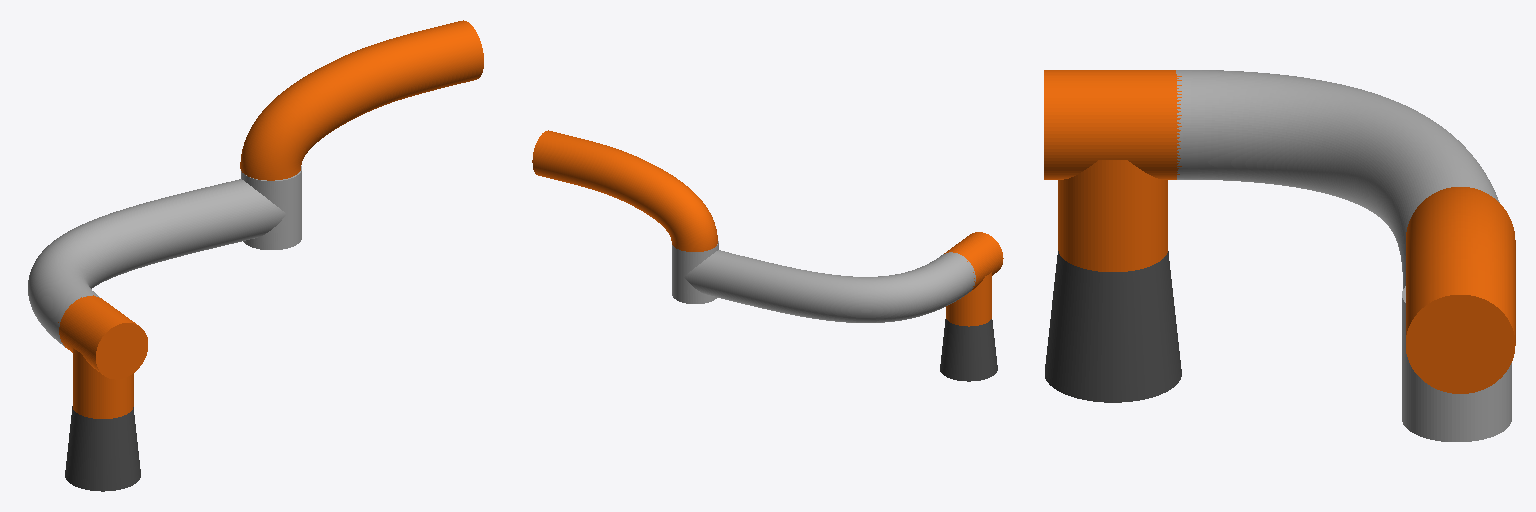
URDF robot description (custom_3r):
<?xml version="1.0" encoding="UTF-8"?>
<robot name="custom_3r">
  
  <!--
  Initial assembly generated from the supplied STL meshes and joint data.
  
  Assumption for this first version:
  - Each STL is expressed in its corresponding link frame.
  - Therefore visual/collision mesh origins are xyz="0 0 0", rpy="0 0 0".
  - The joint origins below are used exactly as supplied and are relative
  to their parent link frames, as required by URDF.
  
  Units:
  - STL geometry appears to be in metres.
  - URDF distances are metres and angles are radians.
  -->
  
  <material name="color_1">
  <color rgba="0.35 0.35 0.35 1.0"/>
  </material>
  <material name="color_2">
  <color rgba="0.95 0.45 0.08 1.0"/>
  </material>
  <material name="color_1">
  <color rgba="0.20 0.22 0.23 1.0"/>
  </material>
  
  <material name="color_2">
  <color rgba="0.05 0.42 0.43 1.0"/>
  </material>
  
  <material name="gray_white">
  <color rgba="0.7 0.7 0.7 1.0"/>
  </material>
  
  <link name="base_link">
  <visual>
  <origin xyz="0 0 0" rpy="0 0 0"/>
  <geometry>
  <mesh filename="package://custom_3r_description/meshes/base_link.stl"/>
  </geometry>
  <material name="color_1"/>
  </visual>
  <collision>
  <origin xyz="0 0 0" rpy="0 0 0"/>
  <geometry>
  <mesh filename="package://custom_3r_description/meshes/base_link.stl"/>
  </geometry>
  </collision>
  </link>
  
  <link name="link_1_0">
  <visual>
  <origin xyz="0 0 0" rpy="0 0 0"/>
  <geometry>
  <mesh filename="package://custom_3r_description/meshes/link_1_0.stl"/>
  </geometry>
  <material name="color_2"/>
  </visual>
  <collision>
  <origin xyz="0 0 0" rpy="0 0 0"/>
  <geometry>
  <mesh filename="package://custom_3r_description/meshes/link_1_0.stl"/>
  </geometry>
  </collision>
  </link>
  
  <joint name="joint_1" type="revolute">
  <parent link="base_link"/>
  <child link="link_1_0"/>
  <origin xyz="0 0 0.5" rpy="0 0 0"/>
  <axis xyz="0 0 1"/>
  <limit lower="-3.141592653589793" upper="3.141592653589793" effort="100" velocity="2.0"/>
  </joint>
  
  <link name="link_2">
  <visual>
  <origin xyz="0 0.25 0" rpy="0 0 -1.5707"/>
  <geometry>
  <mesh filename="package://custom_3r_description/meshes/link_2.stl" scale="1 1 1"/>
  </geometry>
  <material name="gray_white"/>
  </visual>
  <collision>
  <origin xyz="0 0 0" rpy="0 0 0"/>
  <geometry>
  <mesh filename="package://custom_3r_description/meshes/link_2.stl"/>
  </geometry>
  </collision>
  </link>
  
  <joint name="joint_2" type="revolute">
  <parent link="link_1_0"/>
  <child link="link_2"/>
  <origin xyz="0 0 0.5" rpy="0 0 0"/>
  <axis xyz="0 1 0"/>
  <limit lower="-3.141592653589793" upper="3.141592653589793" effort="100" velocity="2.0"/>
  </joint>
  
  <link name="link_3_d3">
  <visual>
  <origin xyz="0 0 0.25" rpy="0 0 0"/>
  <geometry>
  <mesh filename="package://custom_3r_description/meshes/link_3_d3.stl" scale="1 1 1"/>
  </geometry>
  <material name="color_2"/>
  </visual>
  <collision>
  <origin xyz="0 0 0" rpy="0 0 0"/>
  <geometry>
  <mesh filename="package://custom_3r_description/meshes/link_3_d3.stl"/>
  </geometry>
  </collision>
  </link>
  
  <joint name="joint_3" type="revolute">
  <parent link="link_2"/>
  <child link="link_3_d3"/>
  <origin xyz="2 1.25 0.0" rpy="0 0 0"/>
  <axis xyz="0 0 1"/>
  <limit lower="-3.141592653589793" upper="3.141592653589793" effort="100" velocity="2.0"/>
  </joint>
  
  <!-- Convenient fixed end-effector frame at link_3 origin for now.
  Move this origin later if the actual TCP is elsewhere. -->
  <link name="tool0"/>
  <joint name="tool0_fixed_joint" type="fixed">
  <parent link="link_3_d3"/>
  <child link="tool0"/>
  <origin xyz="1.5 0 0.75" rpy="0 0 0"/>
  </joint>
  
</robot>

--- Render facts (derived) ---
3 views of the same robot in one strip: view 1: azimuth 30°, elevation 25°; view 2: azimuth 150°, elevation 25°; view 3: azimuth 270°, elevation 25° (orthographic).
Model custom_3r with 5 links and 4 joints (3 revolute, 1 fixed), rooted at base_link, posed all joints at 0.
Visible links, largest first — view 1: link_2, link_3_d3, link_1_0, base_link; view 2: link_2, link_3_d3, link_1_0, base_link; view 3: link_2, link_1_0, link_3_d3, base_link.
Boxes of the visible links, <box> form: link_2: <box>28,166,301,346</box>; link_3_d3: <box>240,20,483,180</box>; link_1_0: <box>58,295,147,418</box>; base_link: <box>65,406,140,491</box>; link_2: <box>672,241,975,322</box>; link_3_d3: <box>532,130,717,251</box>; link_1_0: <box>944,232,1003,326</box>; base_link: <box>940,319,997,381</box>; link_2: <box>1176,70,1511,441</box>; link_1_0: <box>1044,70,1181,271</box>; link_3_d3: <box>1406,187,1515,393</box>; base_link: <box>1045,251,1181,402</box>.
Bounding box of the posed robot: 3.75 × 1.71 × 1.95 m (x, y, z).
4 mesh visuals loaded from 4 distinct referenced files (4 binary STL).
